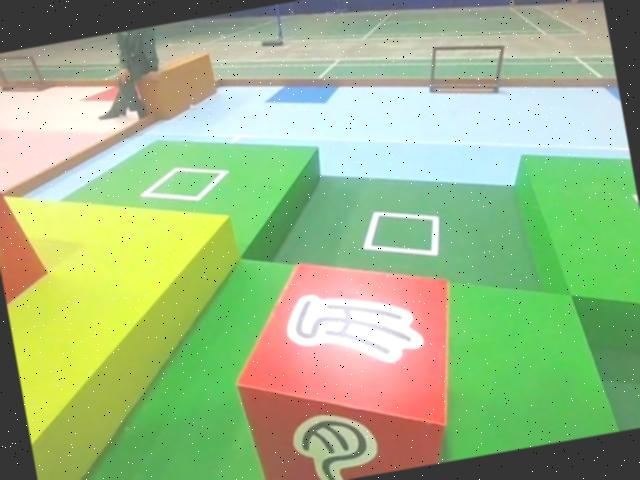R2 Fake: (211, 234, 480, 480)
